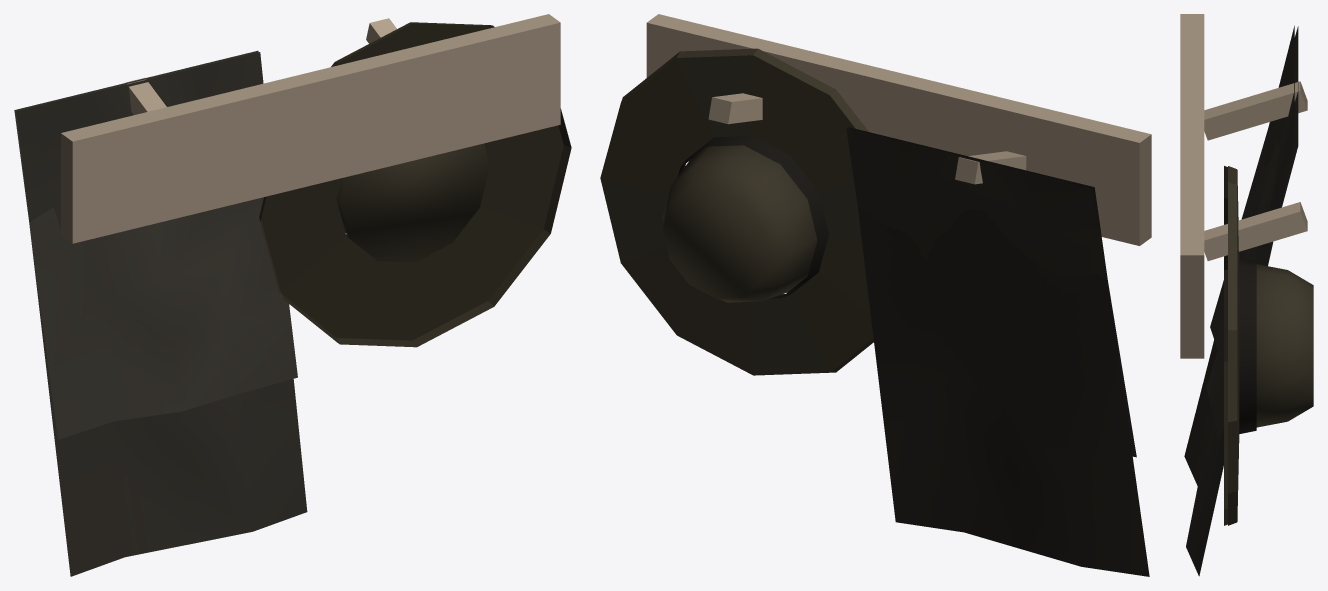
Rendered from prop_inn_pegs_room.glb.
3 renders of one model, left to right at view 1: azimuth 30°, elevation 25°; view 2: azimuth 150°, elevation 25°; view 3: azimuth 270°, elevation 25°, orthographic.
Visible parts, largest first — view 1: InnPegsRoomSoft, InnPegsRoom; view 2: InnPegsRoomSoft, InnPegsRoom; view 3: InnPegsRoomSoft, InnPegsRoom.
Boxes of the visible parts, x1,y1,x2,y2 form: InnPegsRoomSoft: (14,22,571,576); InnPegsRoom: (61,14,560,243); InnPegsRoomSoft: (600,48,1149,576); InnPegsRoom: (646,14,1151,245); InnPegsRoomSoft: (1184,25,1313,576); InnPegsRoom: (1180,14,1307,358).
Size of the model in its own units: 0.64 by 0.528 by 0.14.
